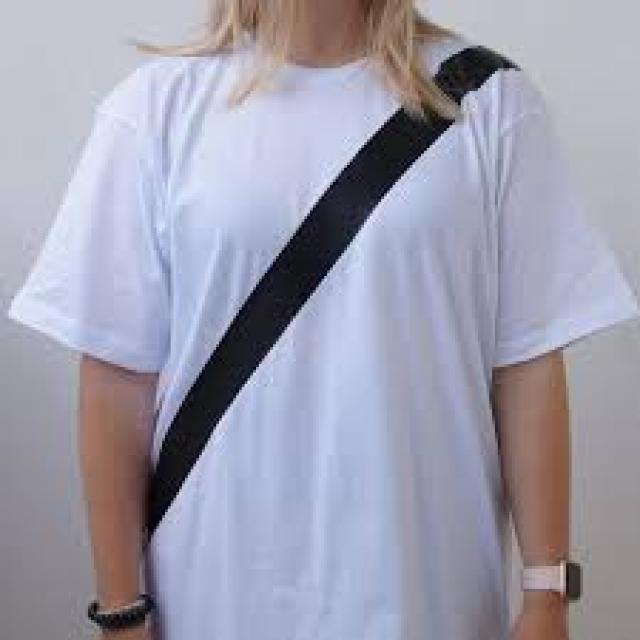Shirt: (49, 24, 609, 619)
